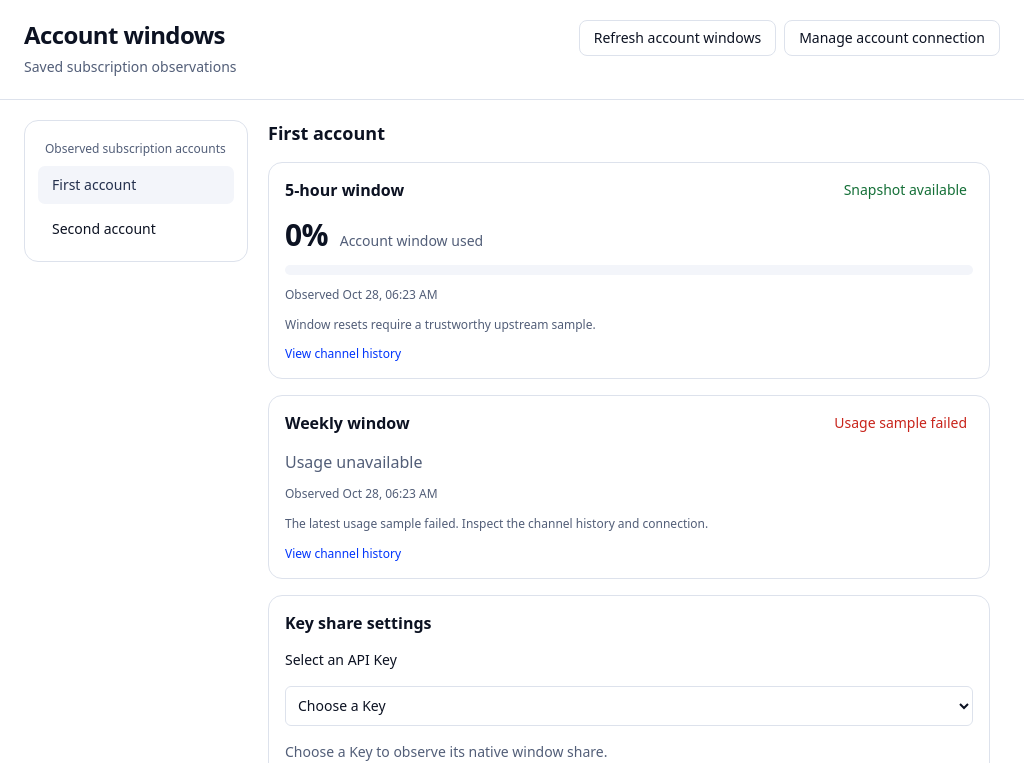
the account list selects saved evidence on every width without another snapshot read
Expected: the heading "First account" is shown, x1=268 y1=121 x2=385 y2=145
Expected: the text "0%" is shown, x1=285 y1=217 x2=328 y2=253
Click the button "Second account" at point(136, 229), box x1=37 y1=209 x2=235 y2=249
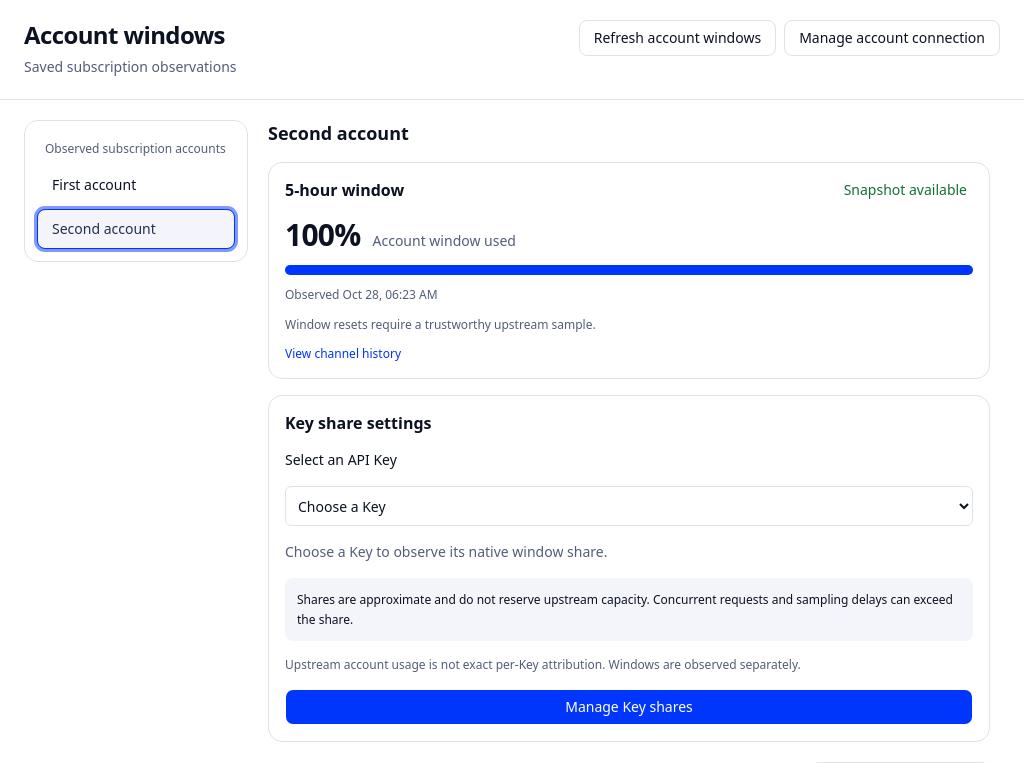
Now the heading "Second account" is shown, box x1=268 y1=121 x2=409 y2=145
Now the text "100%" is shown, box x1=285 y1=217 x2=360 y2=253
Now the text "Usage sample failed" is gone
Click the button "First account" at point(136, 185), box x1=37 y1=165 x2=235 y2=205
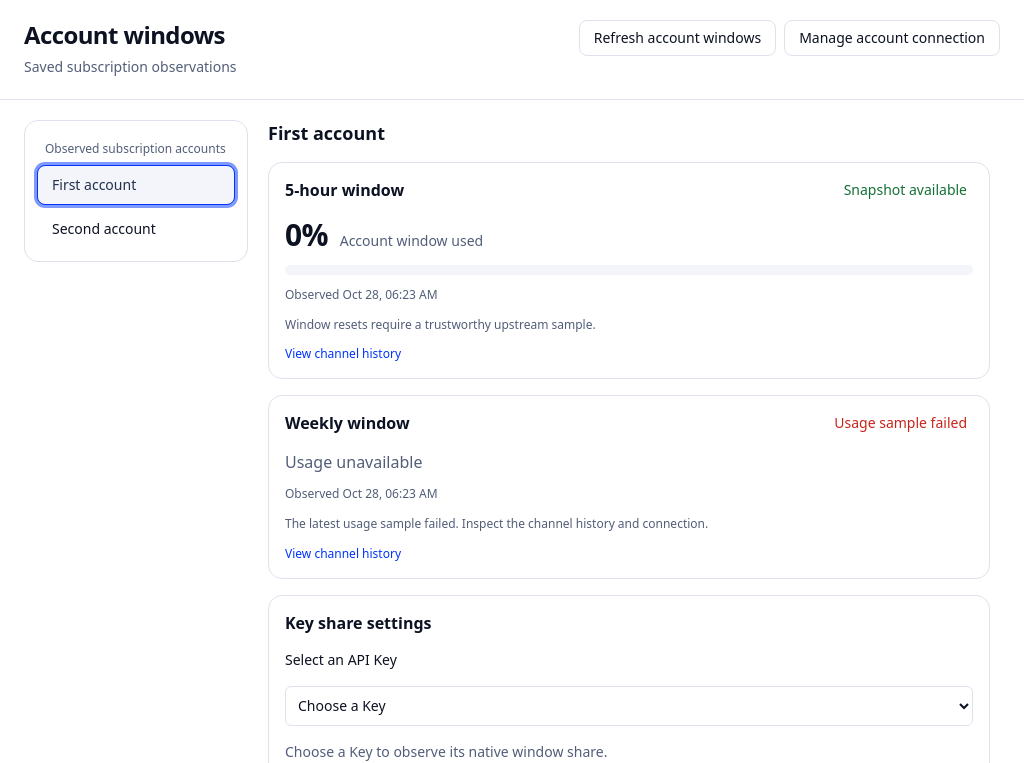
Now the heading "First account" is shown, box x1=268 y1=121 x2=385 y2=145
Now the text "Usage sample failed" is shown, box x1=828 y1=413 x2=973 y2=433
